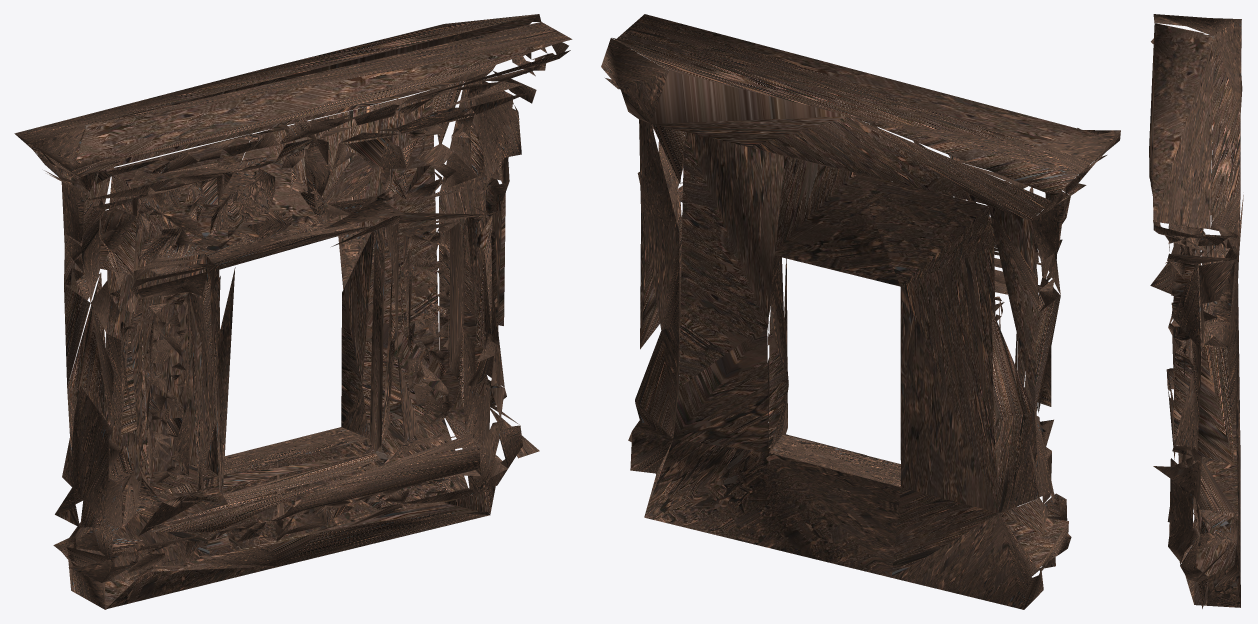
Rendered from window_lite.glb.
The picture shows the model from 3 angles, left to right: view 1: azimuth 30°, elevation 25°; view 2: azimuth 150°, elevation 25°; view 3: azimuth 270°, elevation 25°; orthographic projection. The views are drawn at different scales.
Visible parts, largest first — view 1: window; view 2: window; view 3: window.
Boxes of the visible parts, bbox=[...] form: window: bbox=[14, 14, 572, 609]; window: bbox=[601, 14, 1120, 609]; window: bbox=[1149, 14, 1243, 608].
Bounding box in the file's own units: 1.28 × 1.16 × 0.2423.
Materials: 1 (1 with a texture image).
